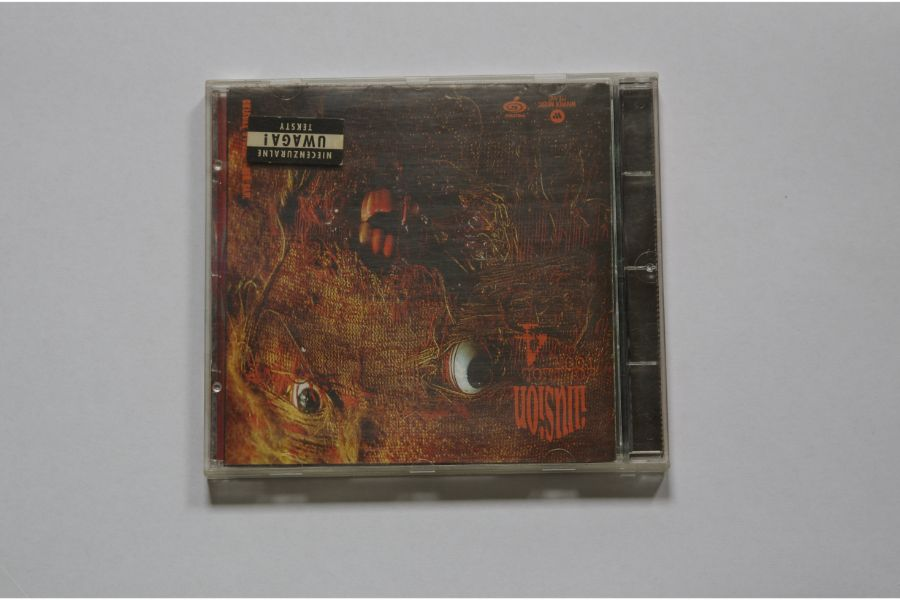album: (200, 78, 670, 479)
